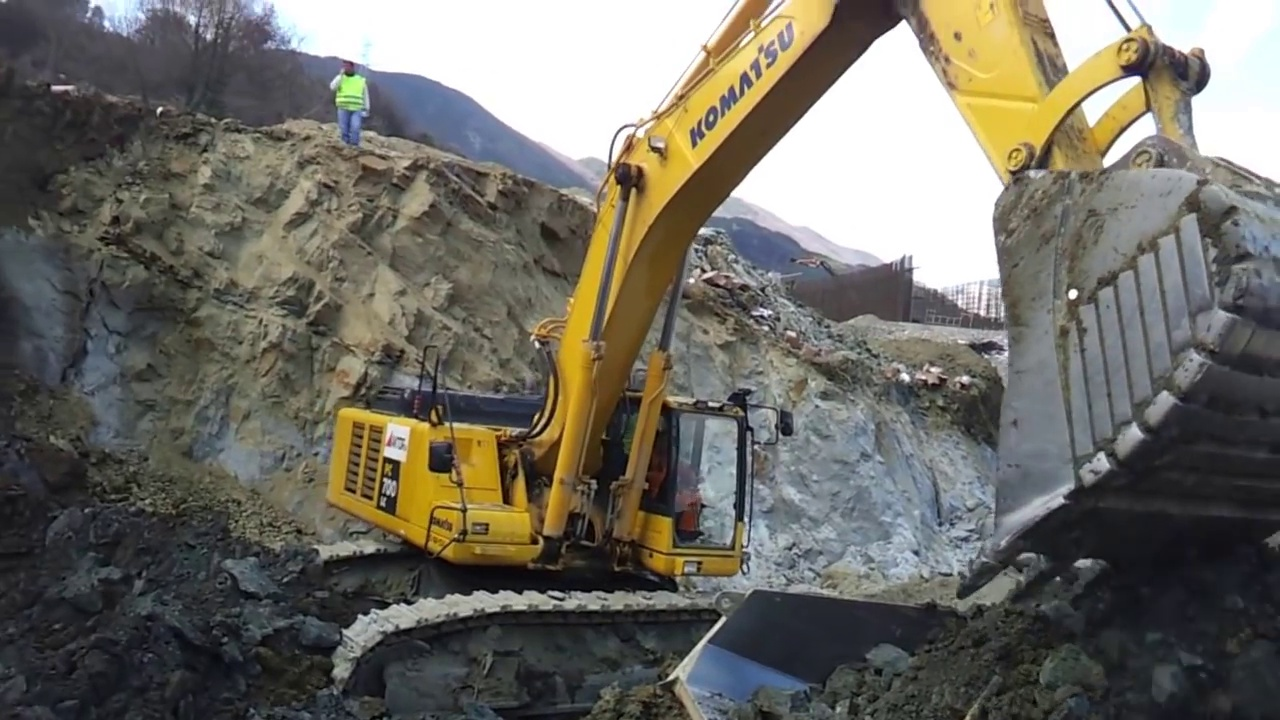excavator: (324, 3, 1280, 714)
person: (330, 62, 372, 146)
